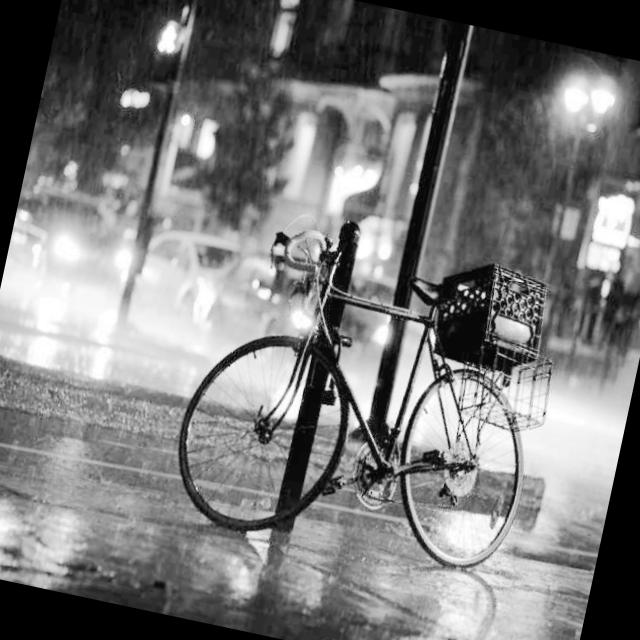Bicycle: (160, 190, 571, 587)
